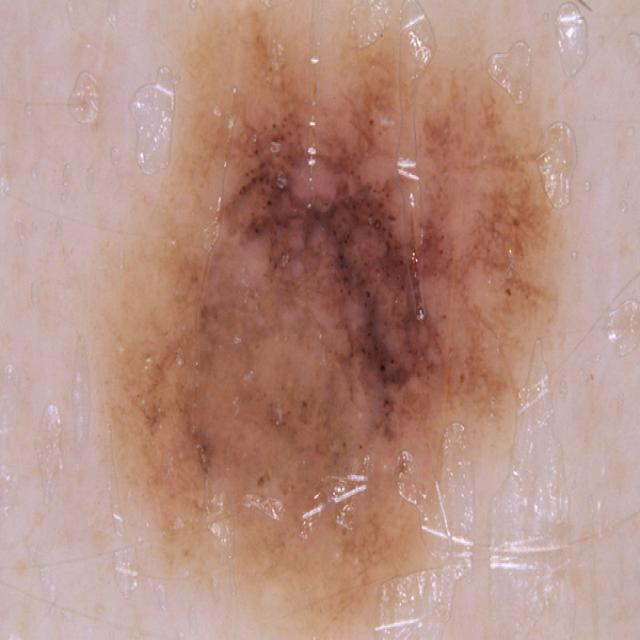NV: (91, 0, 570, 639)
